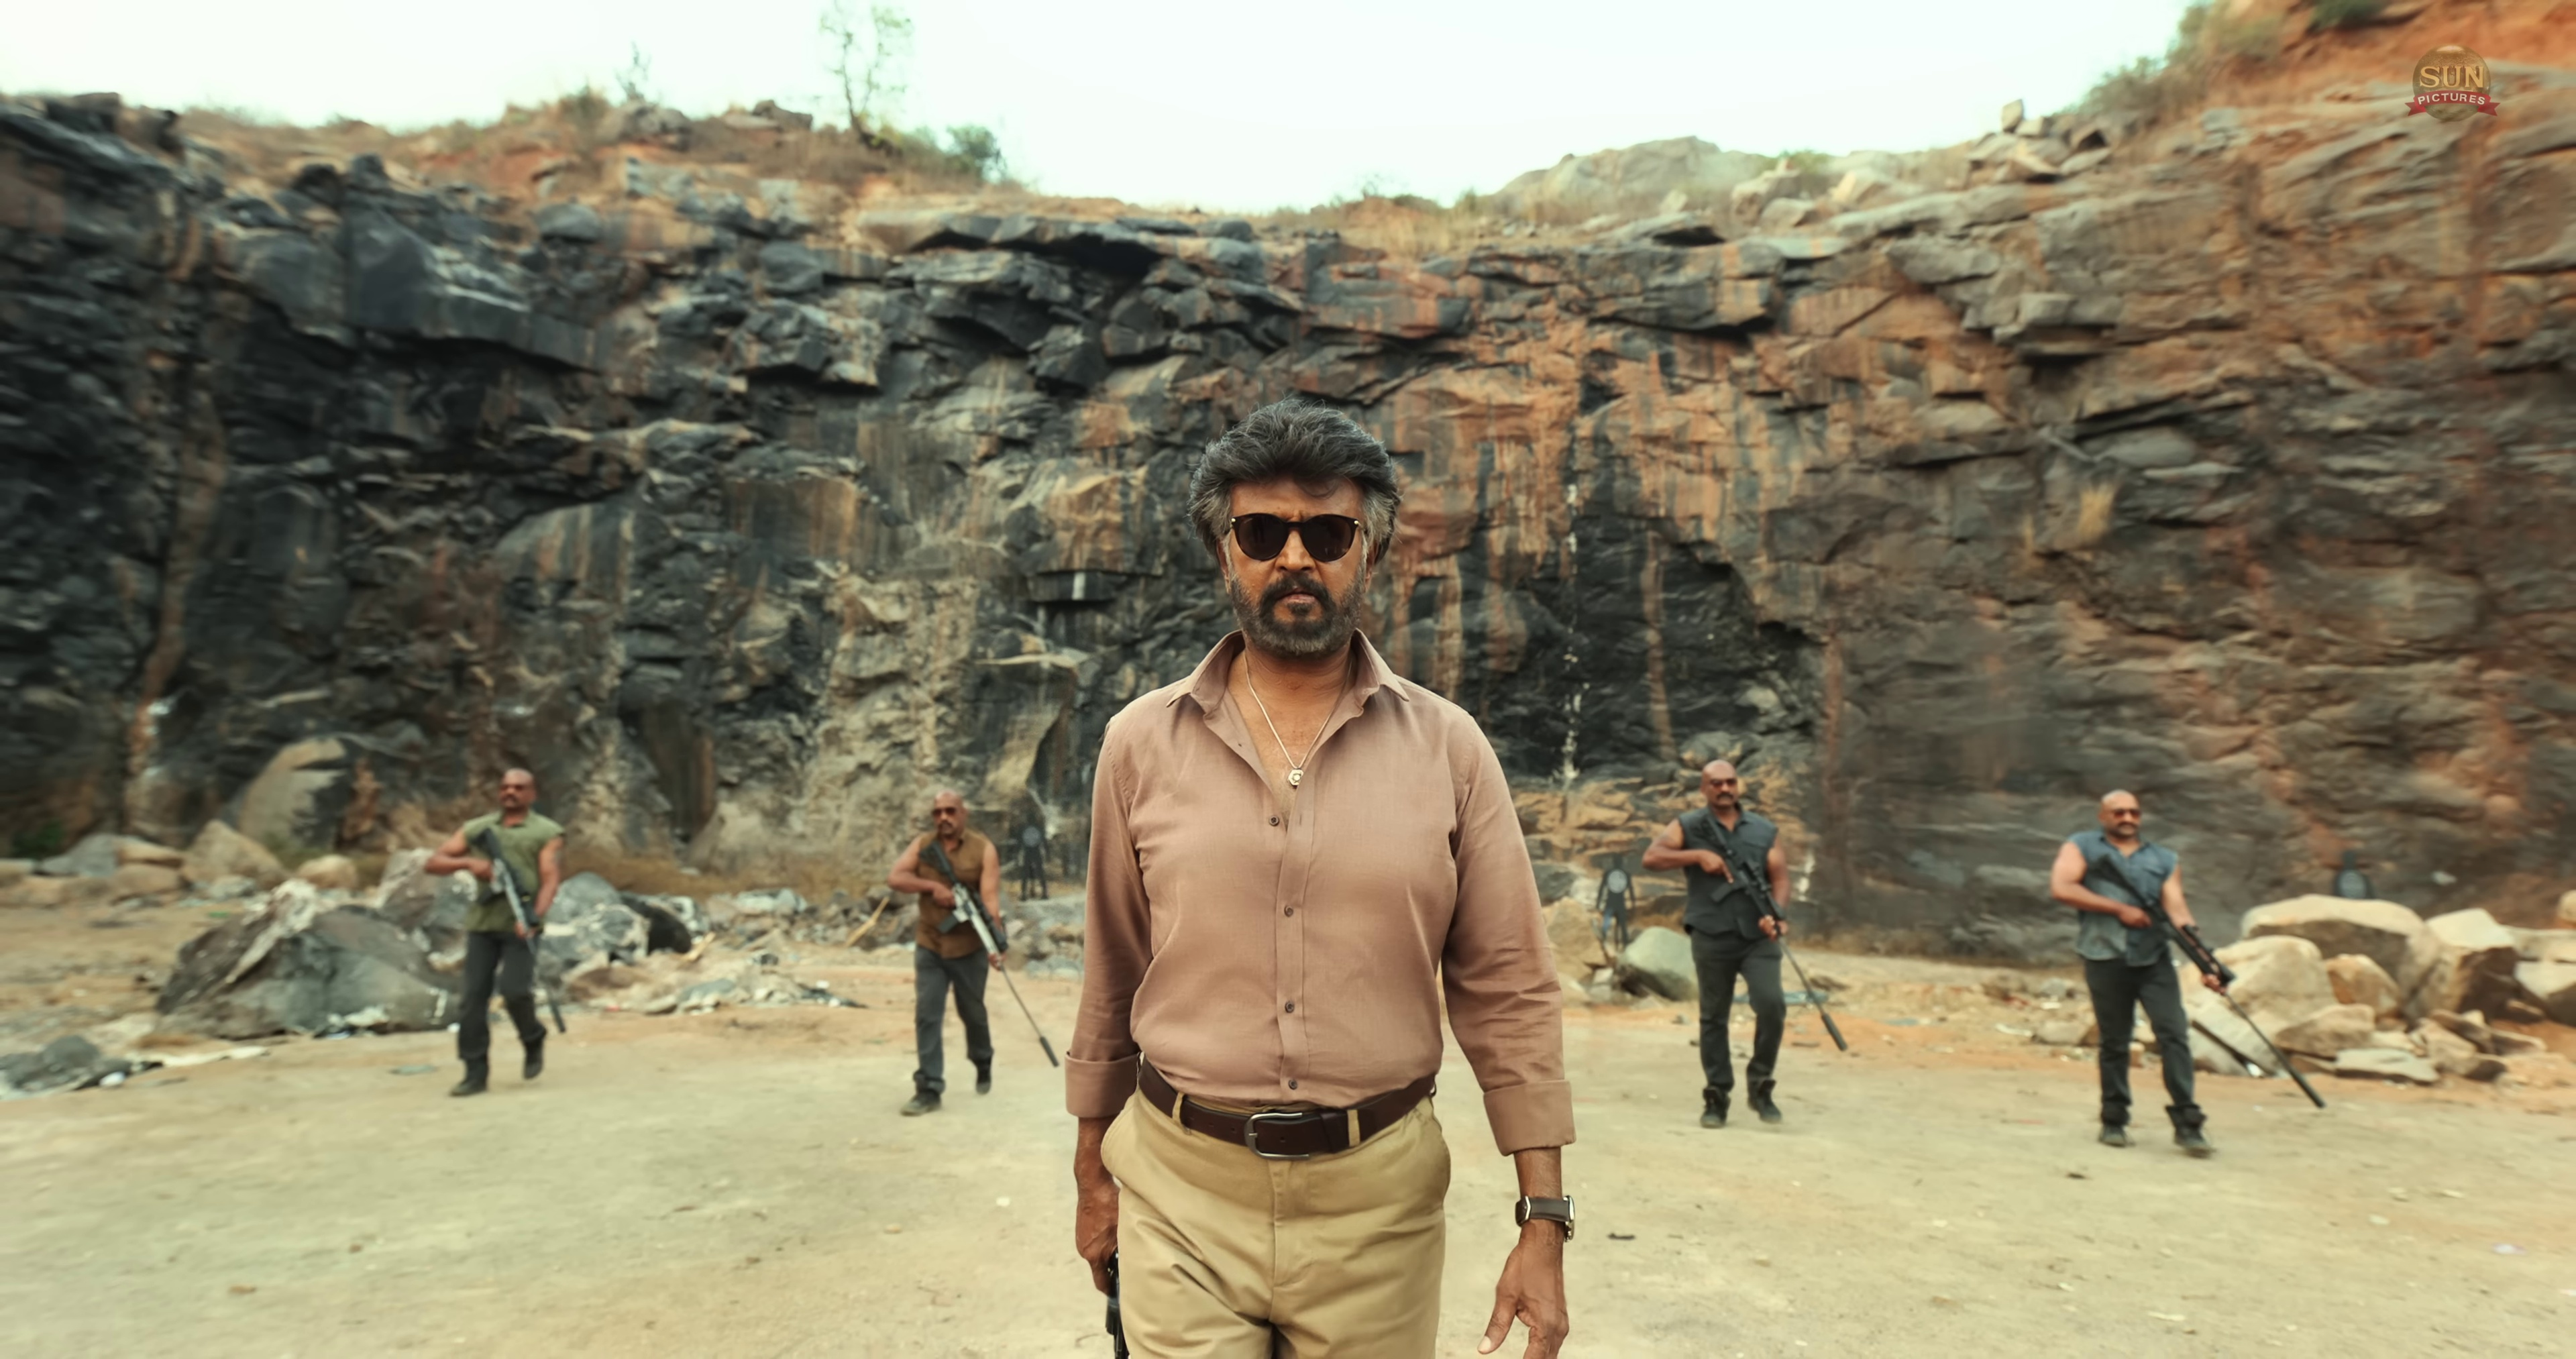gun: (2089, 855, 2324, 1119), (1688, 807, 1849, 1061), (915, 840, 1056, 1069), (472, 824, 571, 1037), (1097, 1243, 1138, 1359)
p_w_gun: (1063, 393, 1581, 1359), (2044, 782, 2327, 1160), (1642, 754, 1847, 1131), (884, 788, 1060, 1117), (426, 766, 571, 1098)
